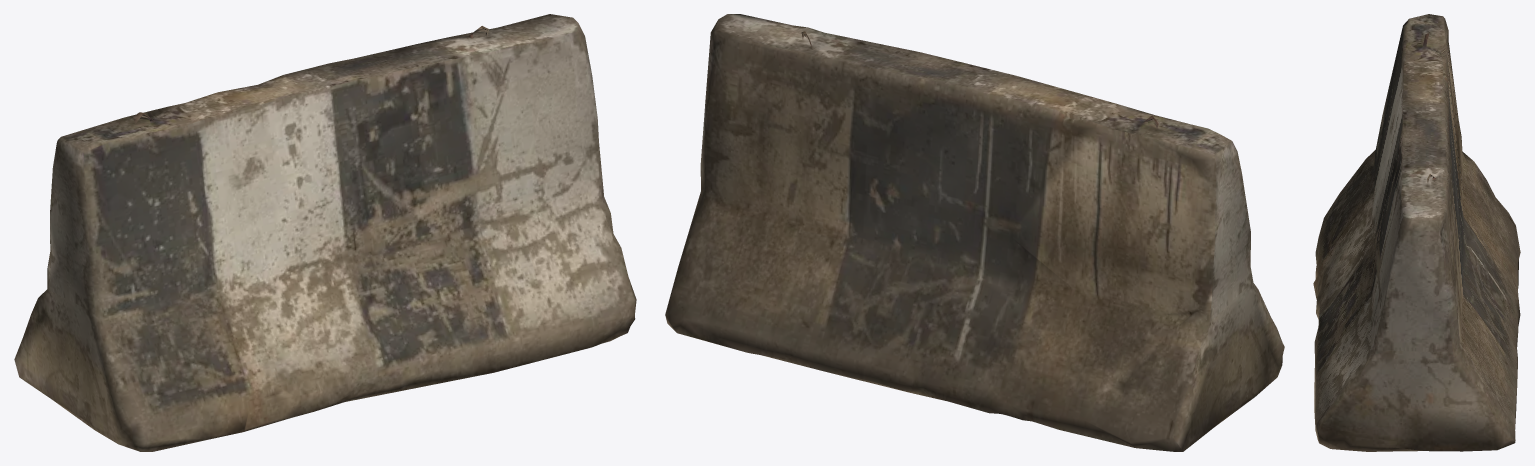
Rendered from barrier.glb.
The picture shows the model from 3 angles, left to right: view 1: azimuth 30°, elevation 25°; view 2: azimuth 150°, elevation 25°; view 3: azimuth 270°, elevation 25°; orthographic projection. The views are drawn at different scales.
Visible parts, largest first — view 1: concrete_road_barrier; view 2: concrete_road_barrier; view 3: concrete_road_barrier.
Boxes of the visible parts, left/top/right/bottom form: concrete_road_barrier: left=14, top=14, right=636, bottom=451; concrete_road_barrier: left=665, top=14, right=1284, bottom=451; concrete_road_barrier: left=1313, top=14, right=1520, bottom=451.
Size of the model in its own units: 1.54 by 0.8304 by 0.6379.
1 material, 1 textured.
